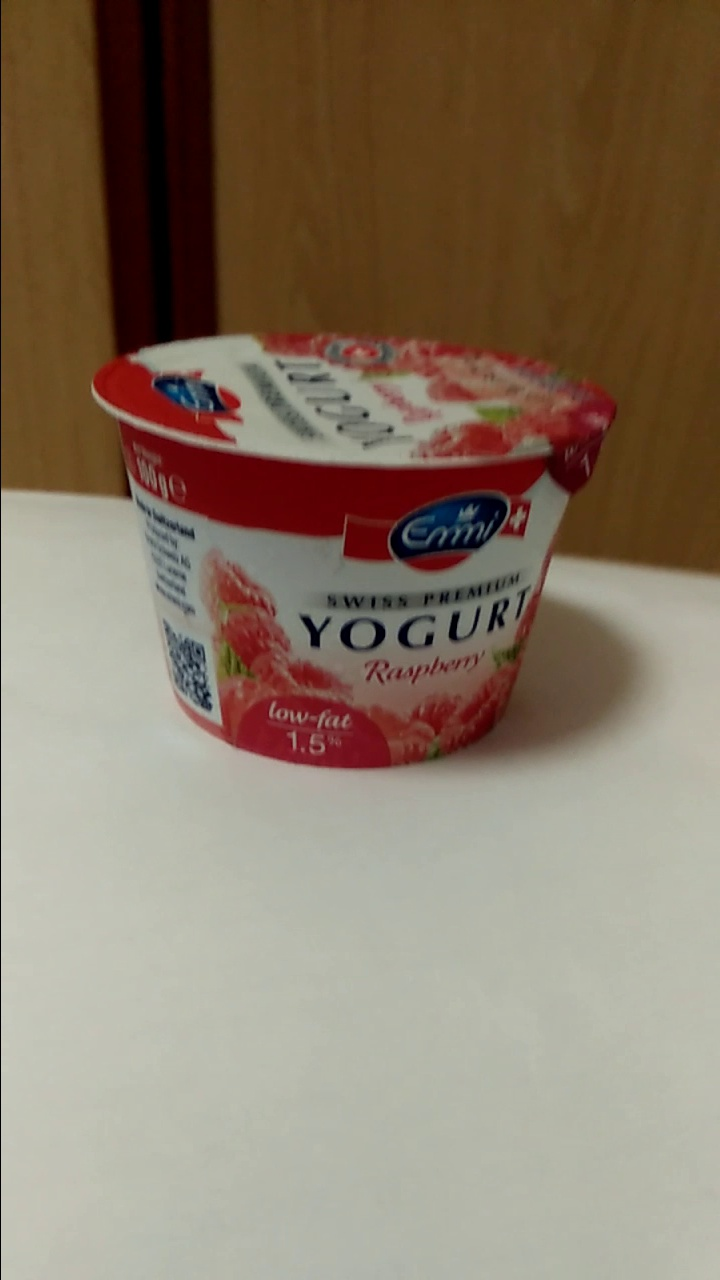yogurt: (105, 319, 607, 774)
